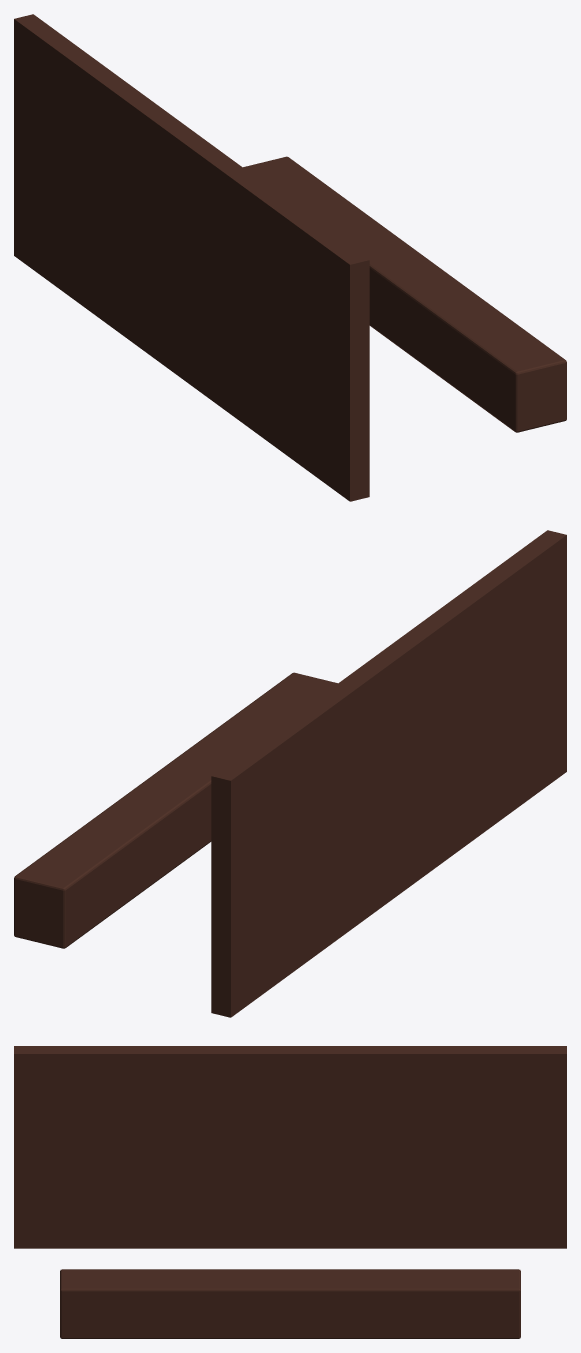
The model's file is Bar_BarWood.fbx.
3 views of the same model, one above another, from view 1: azimuth 30°, elevation 25°; view 2: azimuth 150°, elevation 25°; view 3: azimuth 270°, elevation 25° (orthographic). The views are drawn at different scales.
Visible parts, largest first — view 1: BarCounter.001; view 2: BarCounter.001; view 3: BarCounter.001.
Part boxes in pixels (bbox=[...]): BarCounter.001: bbox=[14, 14, 566, 501]; BarCounter.001: bbox=[14, 530, 566, 1017]; BarCounter.001: bbox=[14, 1046, 566, 1338].
Size of the model in its own units: 1520 by 1400 by 3600.
